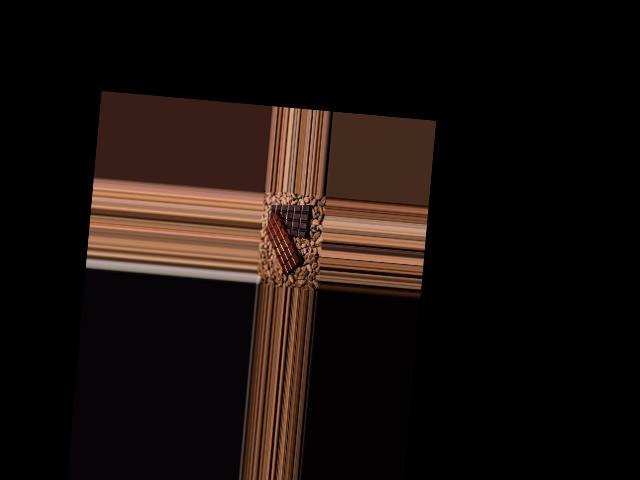chocolate: (266, 197, 315, 238)
